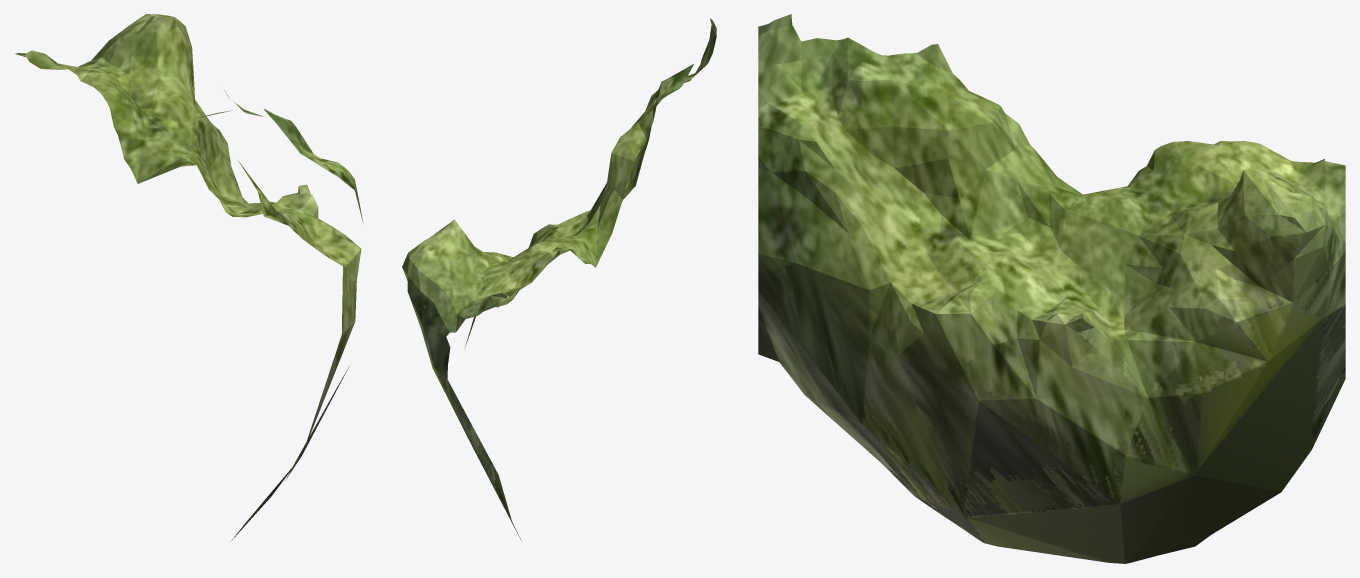
3 renders of one model, left to right at view 1: azimuth 30°, elevation 25°; view 2: azimuth 150°, elevation 25°; view 3: azimuth 270°, elevation 25°, orthographic. The views are drawn at different scales.
Bounding box in the file's own units: 0.9336 × 2.95 × 2.95.
2 materials, 2 textured.
